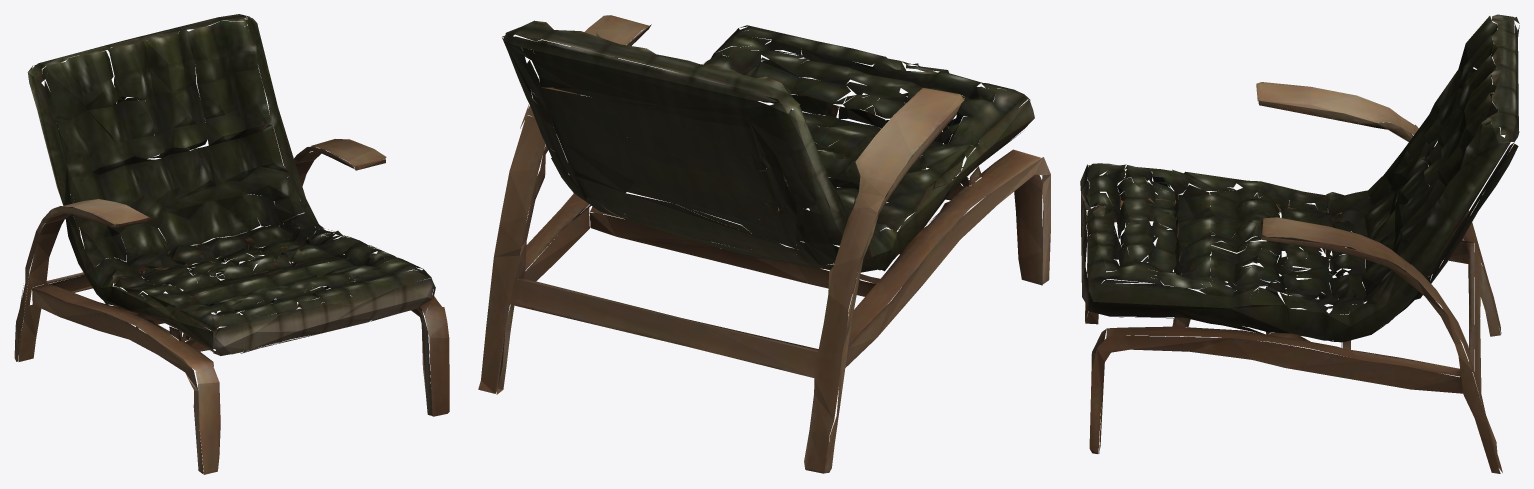
Rendered from c-fauteuil-vert.glb.
The picture shows the model from 3 angles, left to right: view 1: azimuth 30°, elevation 25°; view 2: azimuth 150°, elevation 25°; view 3: azimuth 270°, elevation 25°; orthographic projection. The views are drawn at different scales.
Visible parts, largest first — view 1: geometry_0; view 2: geometry_0; view 3: geometry_0.
Part boxes in pixels (x1,y1,x2,y2): geometry_0: (14, 14, 449, 474); geometry_0: (478, 15, 1050, 473); geometry_0: (1080, 14, 1519, 473).
Bounding box in the file's own units: 0.8336 × 0.8433 × 0.9999.
Materials: 1 (1 with a texture image).
